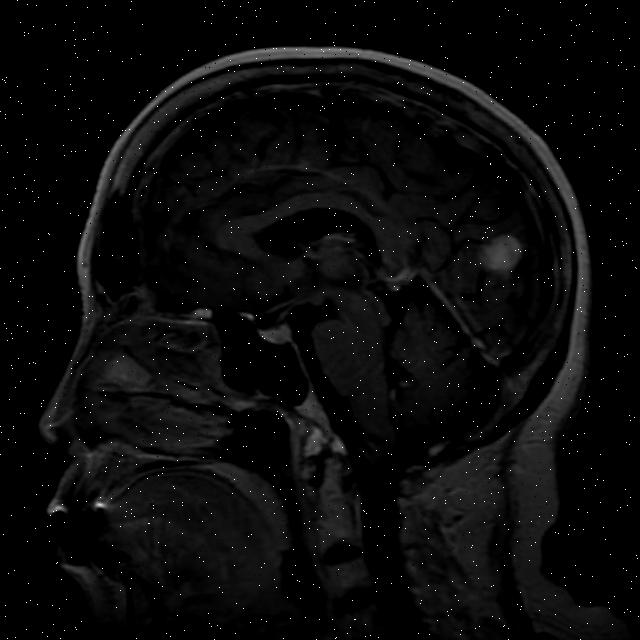Meningioma: (469, 225, 529, 278)
